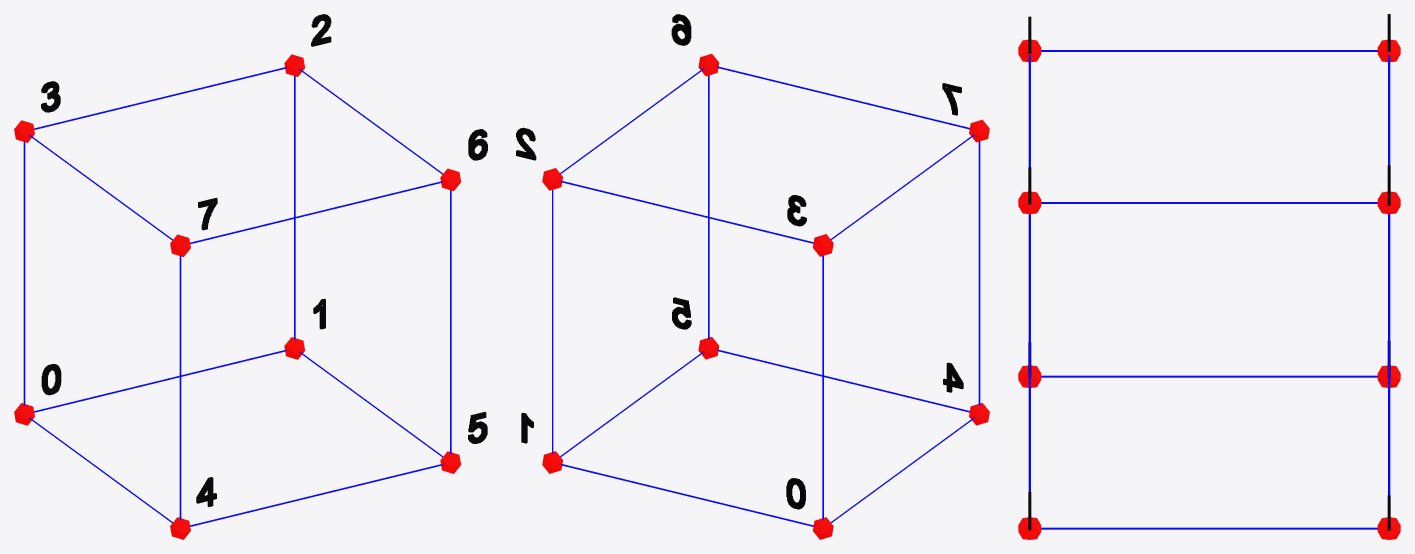
Rendered from JustCube.glb.
3 views of the same model, side by side, from view 1: azimuth 30°, elevation 25°; view 2: azimuth 150°, elevation 25°; view 3: azimuth 270°, elevation 25° (orthographic). The views are drawn at different scales.
Bounding box in the file's own units: 1.17 × 1.19 × 1.06.
